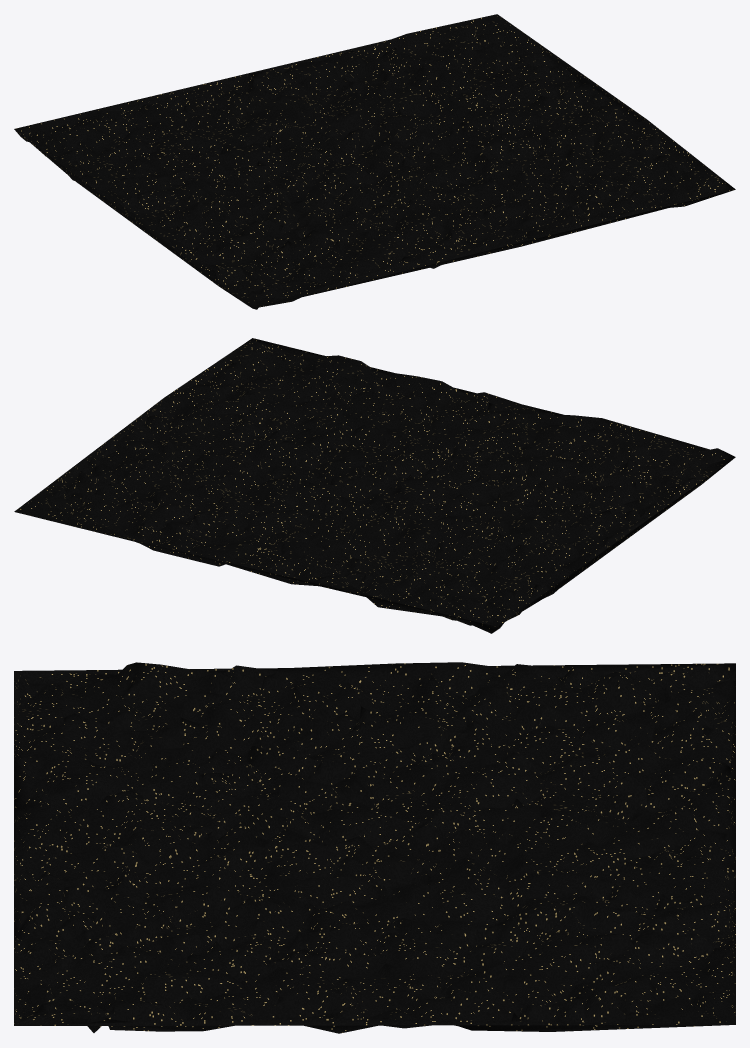
The model's file is background_texture.obj.
The picture shows the model from 3 angles, top to bottom: view 1: azimuth 30°, elevation 25°; view 2: azimuth 150°, elevation 25°; view 3: azimuth 270°, elevation 25°; orthographic projection. The views are drawn at different scales.
Visible parts, largest first — view 1: test; view 2: test; view 3: test.
Boxes of the visible parts, left/top/right/bottom form: test: left=14, top=14, right=735, bottom=309; test: left=14, top=338, right=735, bottom=633; test: left=14, top=662, right=735, bottom=1033.
Bounding box in the file's own units: 2.2 × 0.0599 × 1.88.
Materials: 1 (1 with a texture image).
